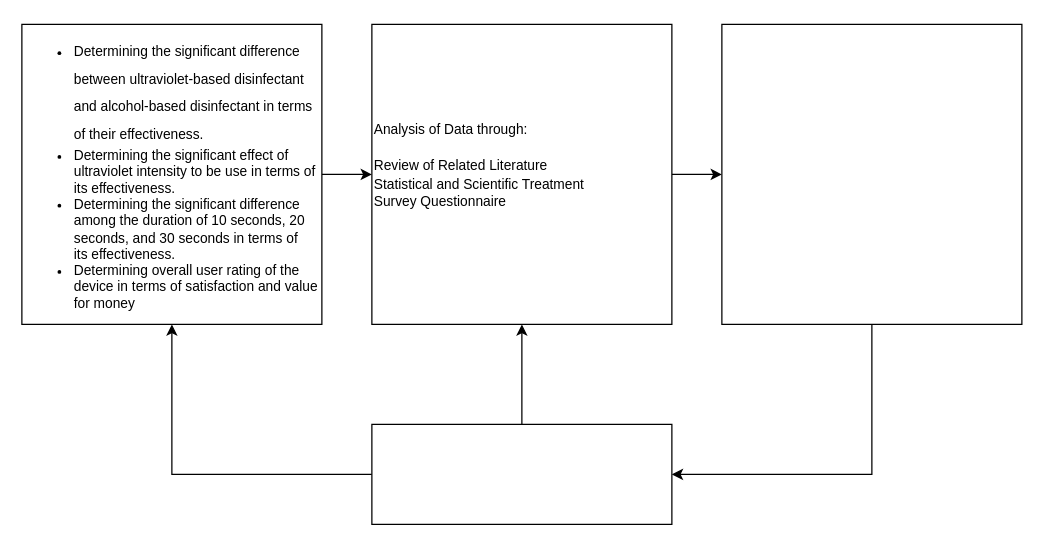
The diagram is 1044 pixels wide and 546 high, and some of its shapes have lost their labels. The centre of each missing label's shape, as x and y in pixels:
*title*: point 871,173
Feedback: point 521,473
